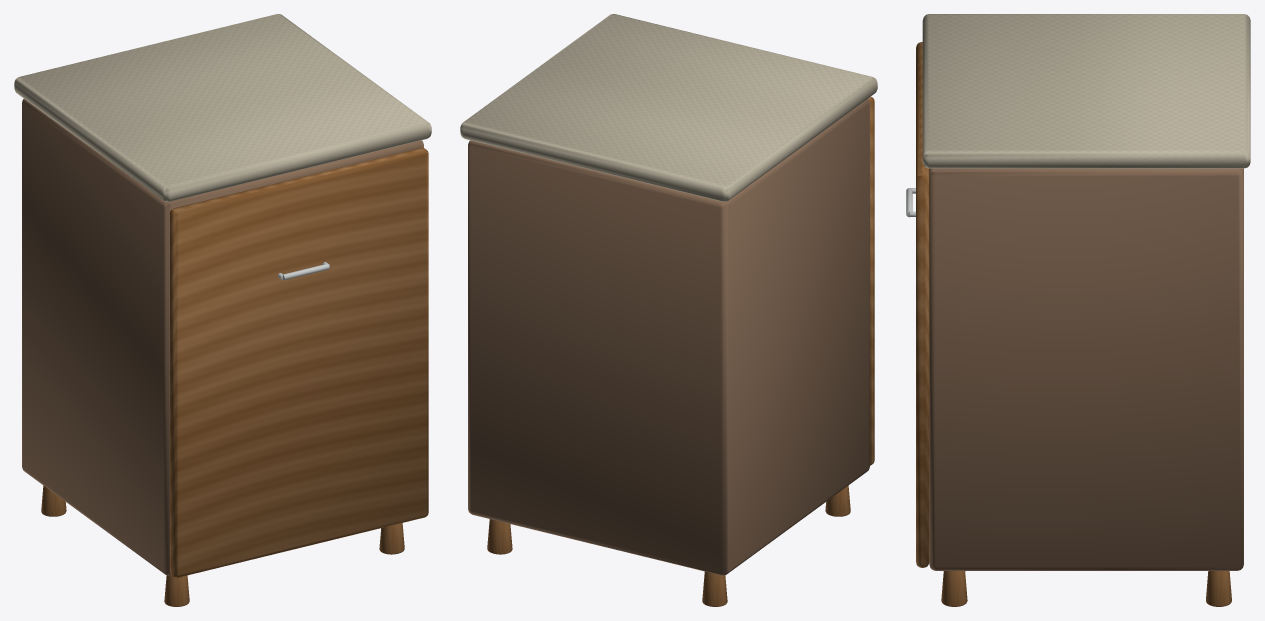
The model's file is counter.glb.
3 views of the same model, side by side, from view 1: azimuth 30°, elevation 25°; view 2: azimuth 150°, elevation 25°; view 3: azimuth 270°, elevation 25° (orthographic). The views are drawn at different scales.
Parts seen in each view (by area): view 1: counter-mesh; view 2: counter-mesh; view 3: counter-mesh.
Boxes of the visible parts, x1=… form: counter-mesh: x1=14, y1=14, x2=431, y2=606; counter-mesh: x1=460, y1=14, x2=877, y2=606; counter-mesh: x1=906, y1=14, x2=1250, y2=606.
Size of the model in its own units: 0.6 by 0.92 by 0.62.
4 materials, 2 textured.
